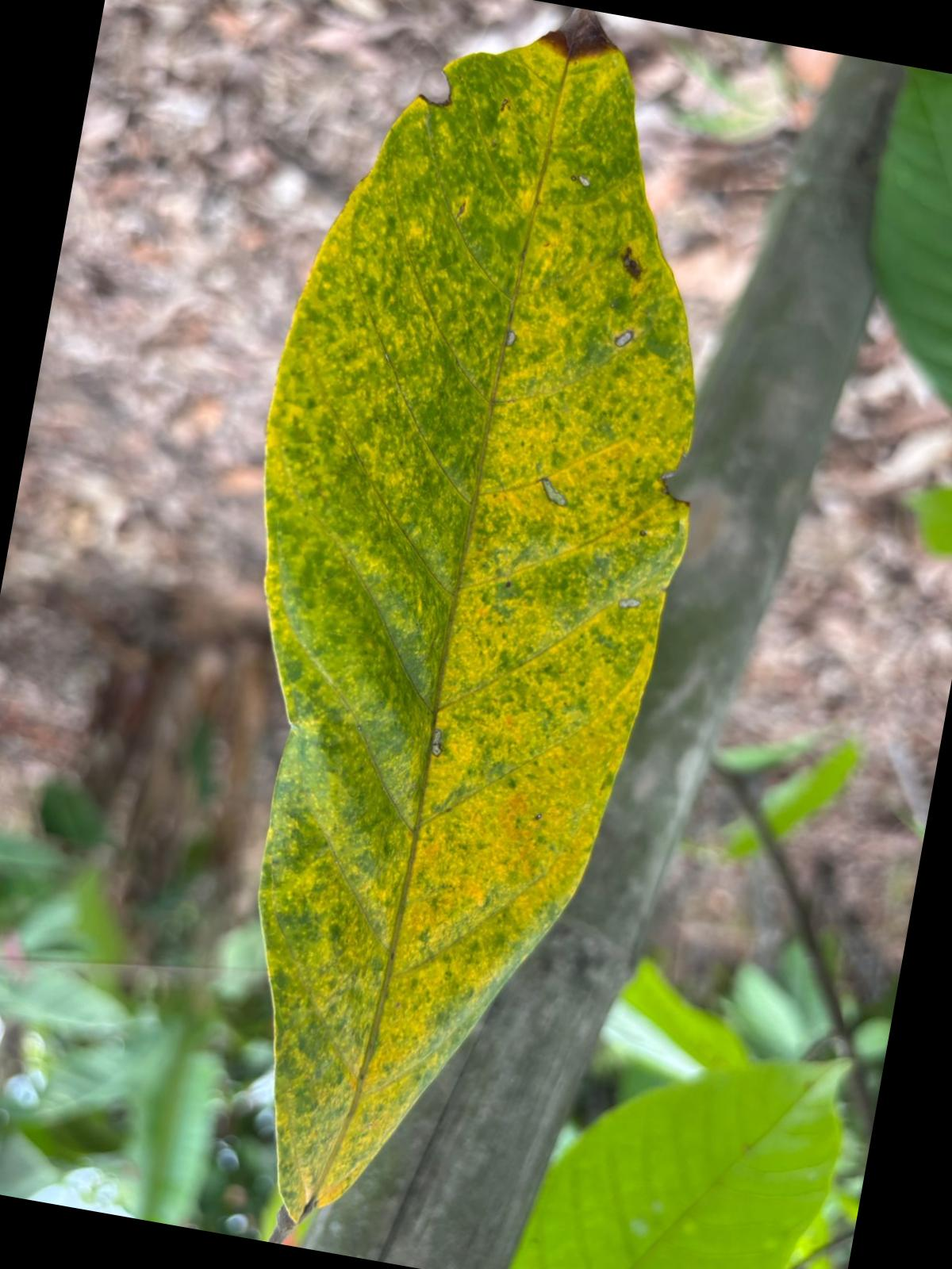Fosforo: (260, 9, 694, 1221)
